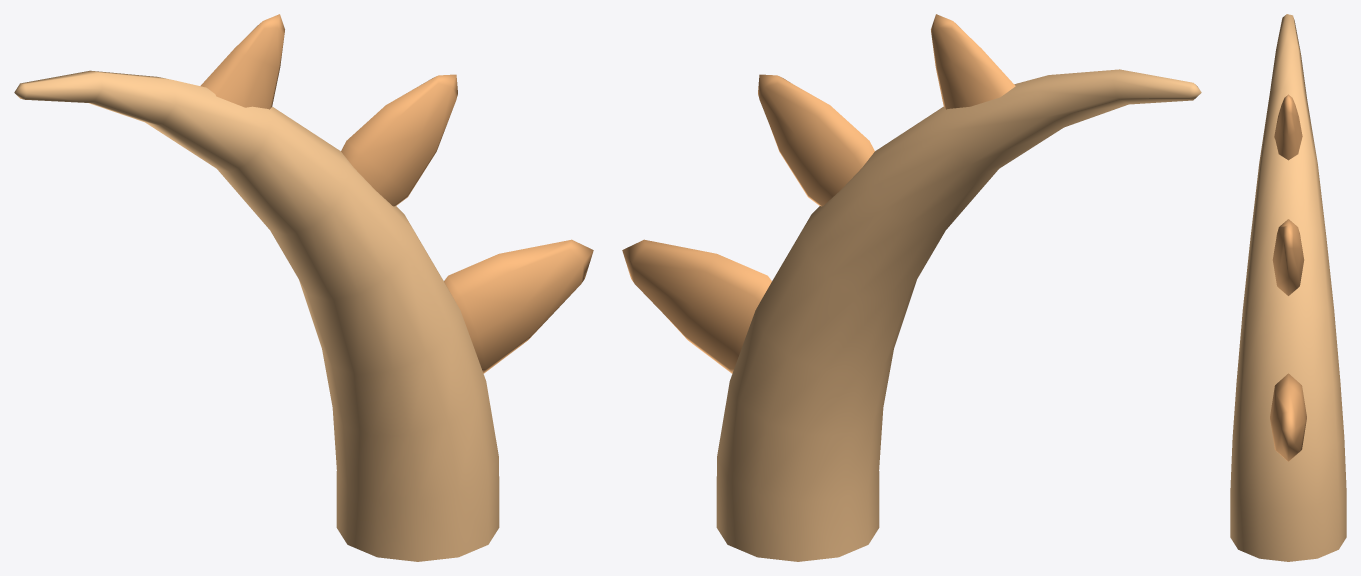
The model's file is Bone_1.fbx.
The picture shows the model from 3 angles, left to right: view 1: azimuth 30°, elevation 25°; view 2: azimuth 150°, elevation 25°; view 3: azimuth 270°, elevation 25°; orthographic projection. The views are drawn at different scales.
Visible parts, largest first — view 1: Bone_1; view 2: Bone_1; view 3: Bone_1.
Boxes of the visible parts, <box> form: Bone_1: <box>14,14,593,561</box>; Bone_1: <box>622,14,1201,561</box>; Bone_1: <box>1230,14,1346,561</box>.
Size of the model in its own units: 18.99 by 17.13 by 4.62.
